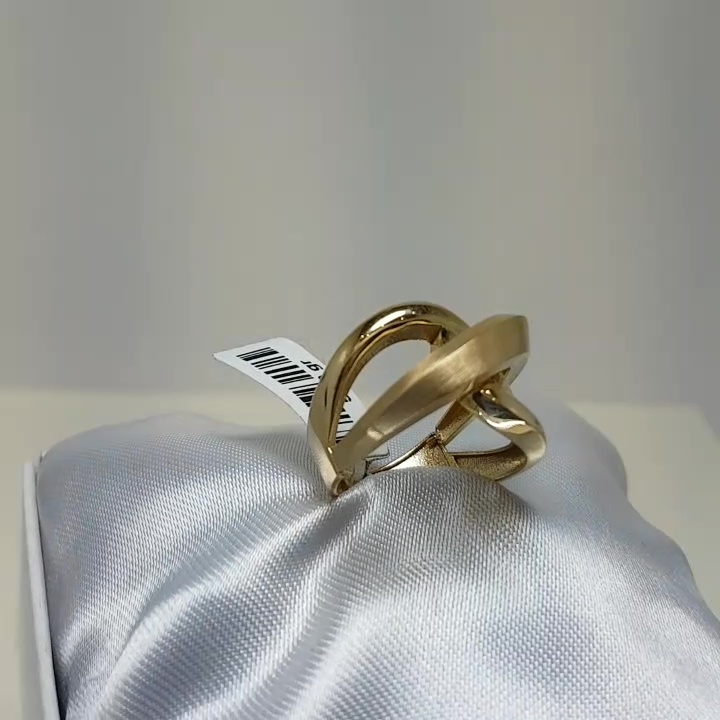Ring 3: (284, 281, 571, 527)
